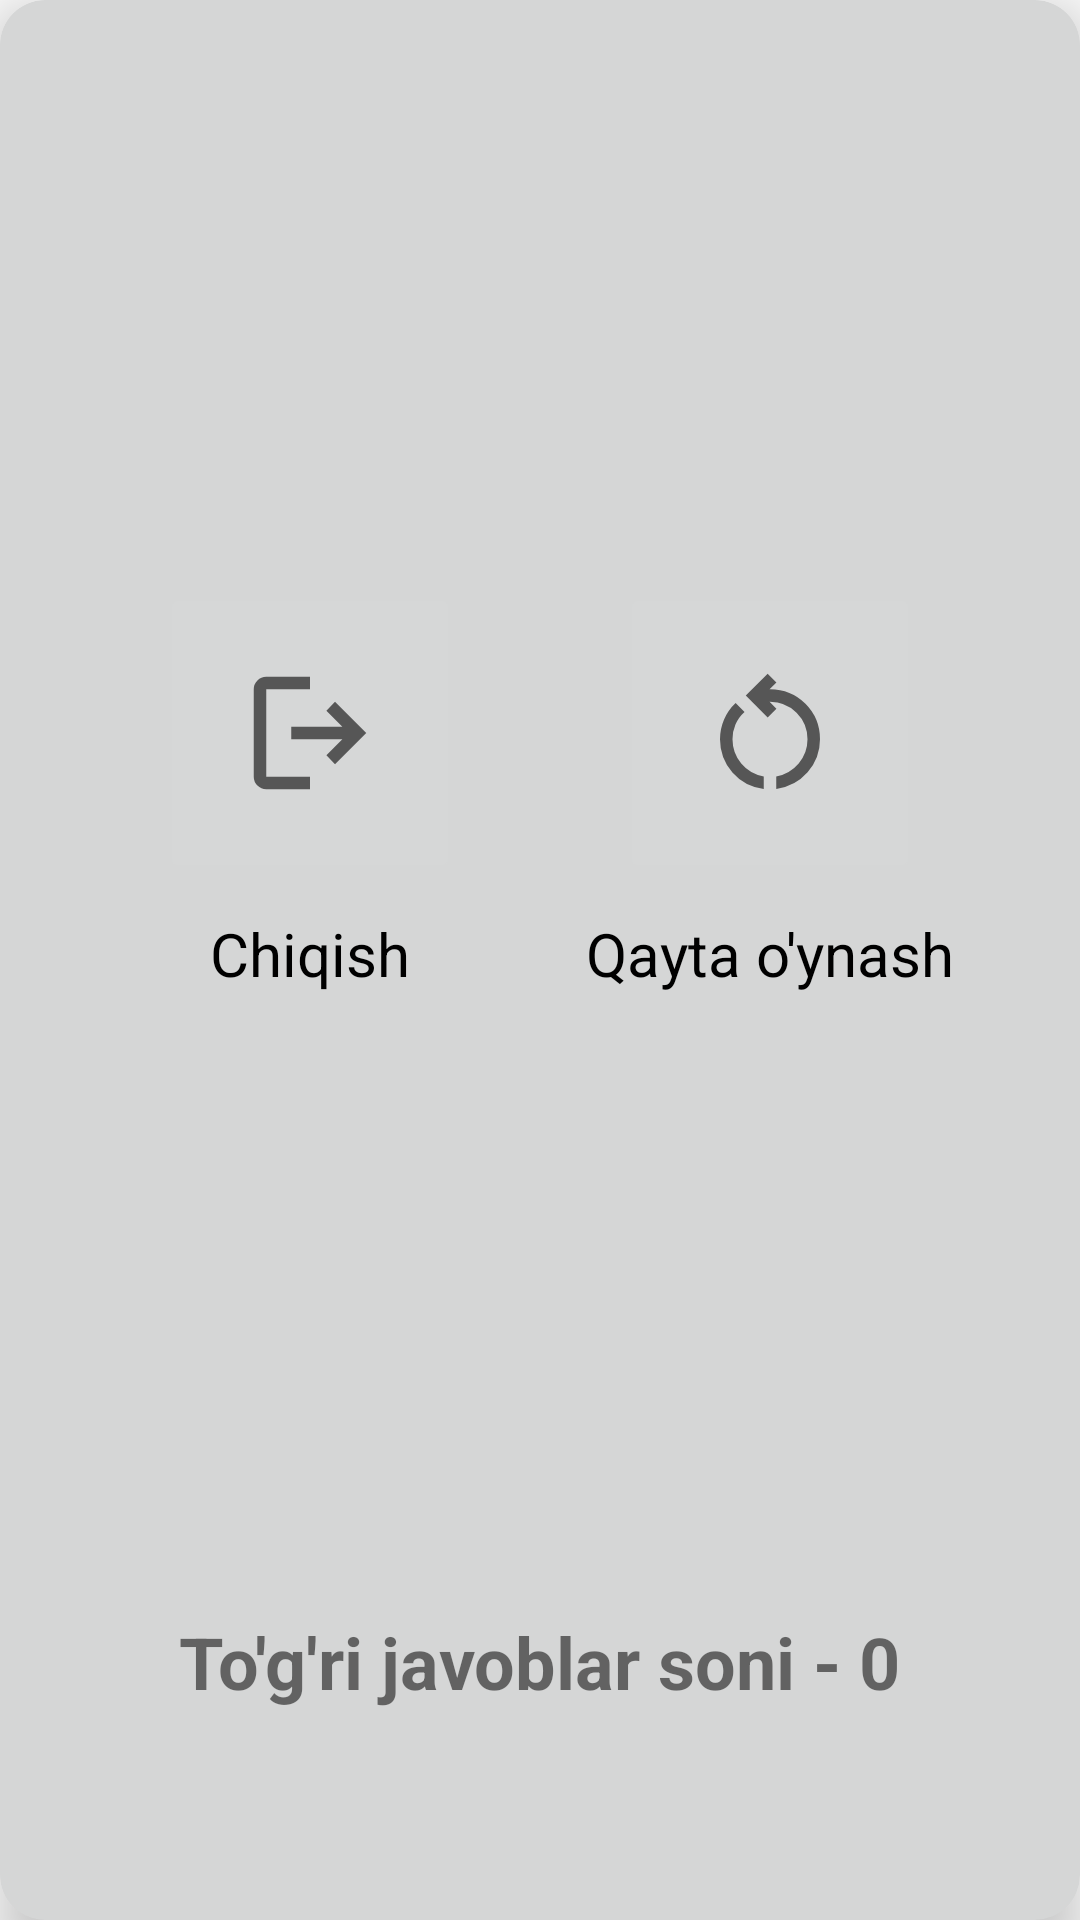

Icons on this 1080*1920 Android screen, each with its box as (x1, y1, x2, y2):
log out: (253, 676, 366, 790)
restart: (720, 674, 820, 789)
